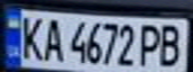2: (115, 20, 139, 68)
4: (66, 17, 87, 64)
6: (84, 19, 103, 65)
7: (100, 19, 121, 66)
A: (39, 15, 66, 63)
B: (154, 20, 187, 69)
K: (15, 12, 45, 61)
P: (136, 20, 163, 68)
